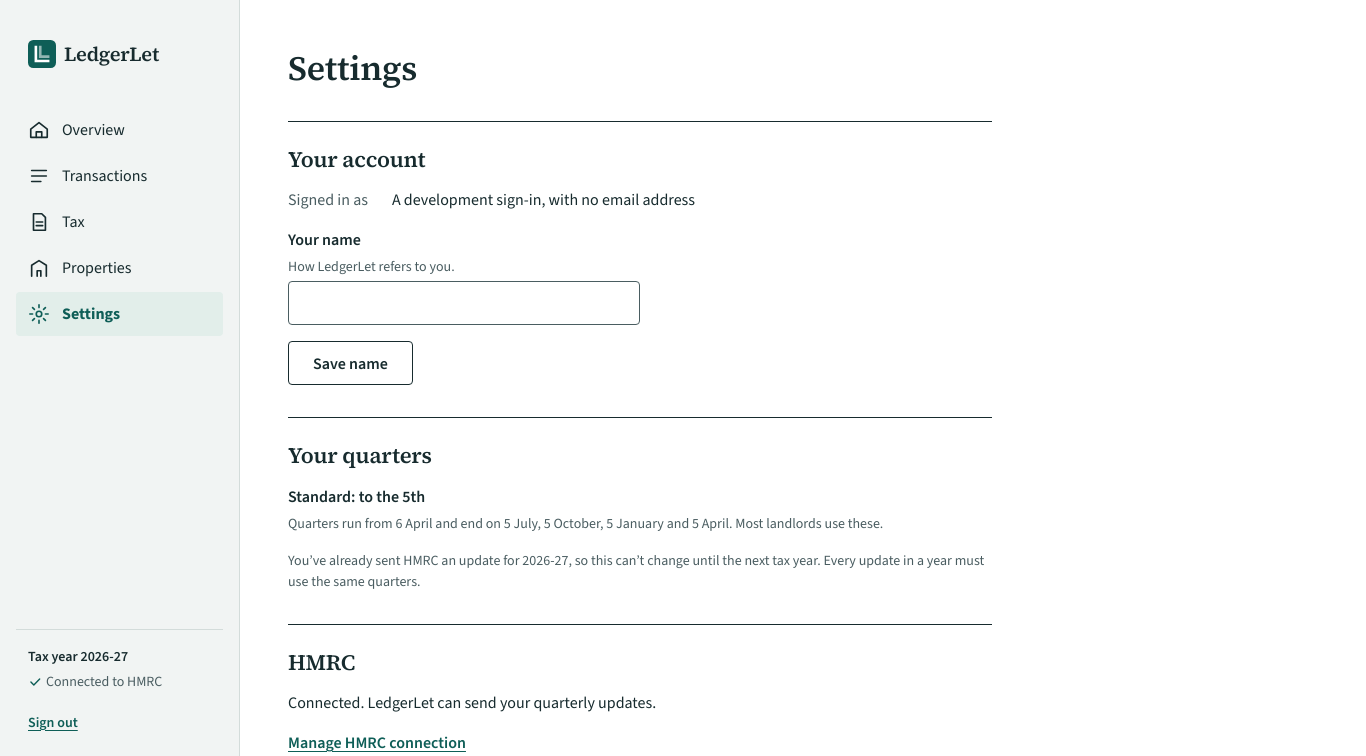
Scenario: saves a name
Type "Shaz" into the field labelled "Your name" at (464, 303), box [288,281,640,325]
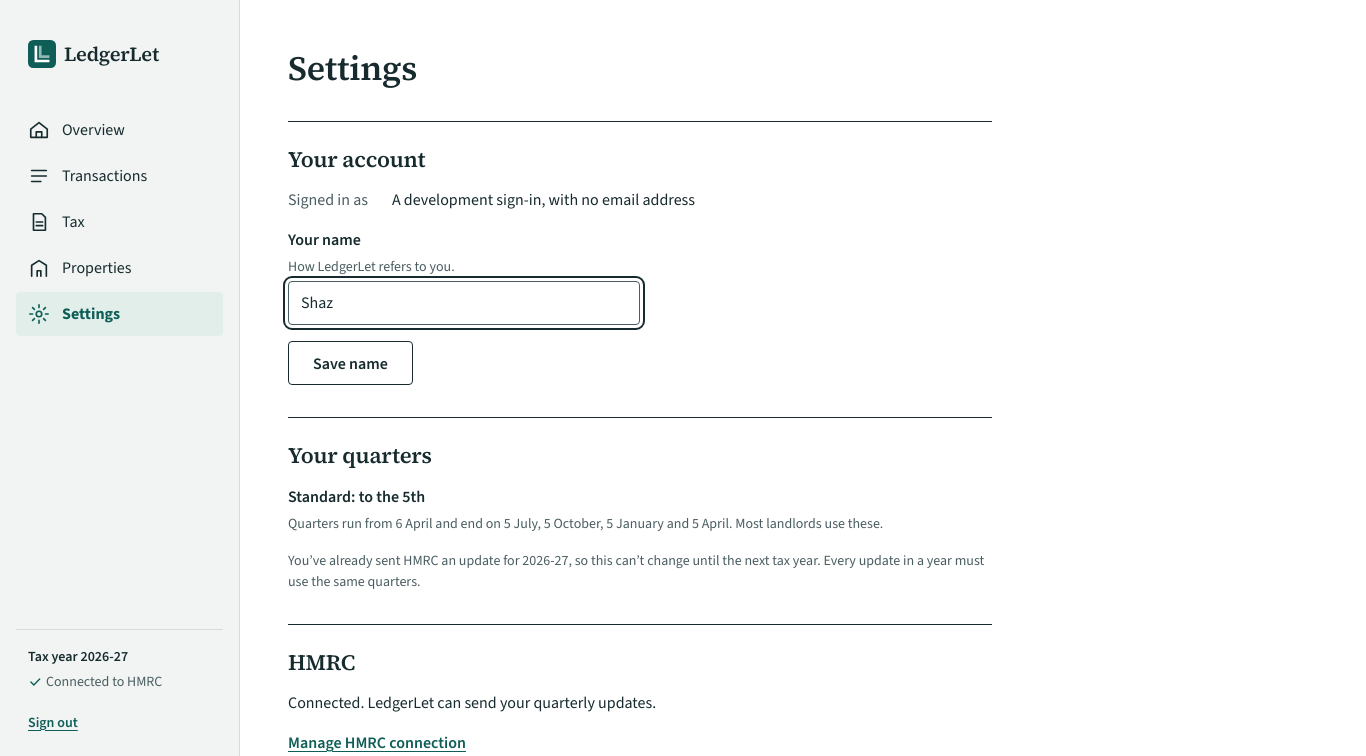
Click the button "Save name" at (350, 363), box [288,341,413,385]
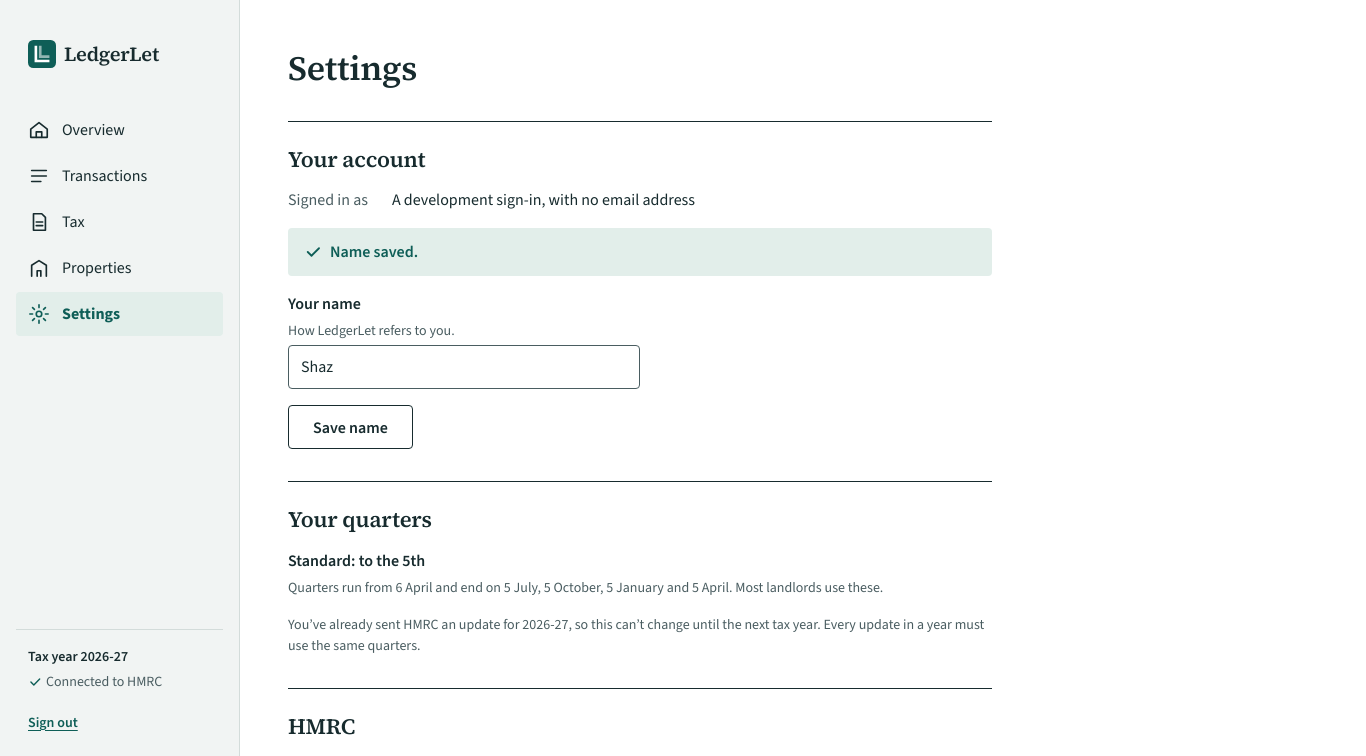
Expected: the text "Name saved." is shown, [288,228,992,276]
